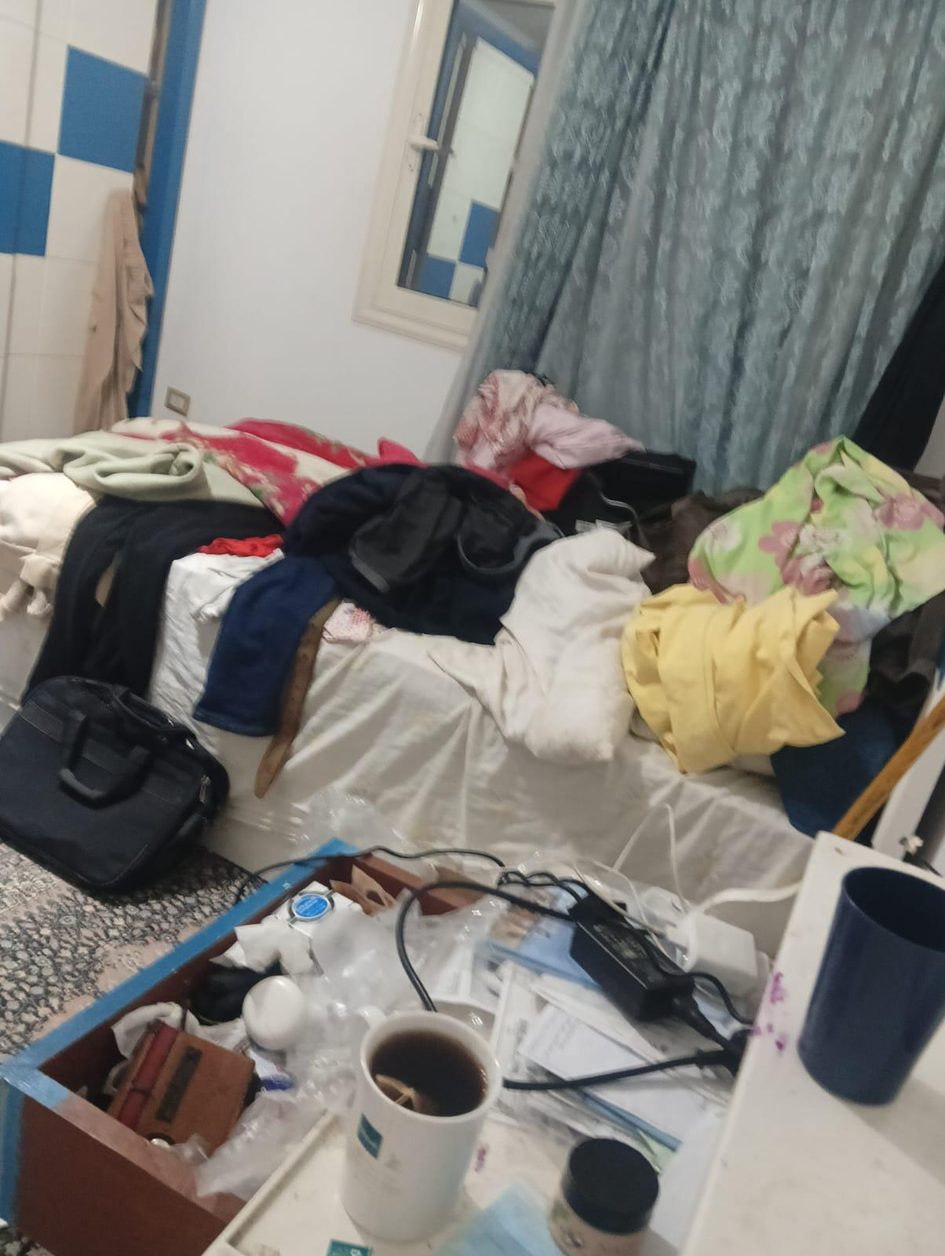cup: (341, 1011, 501, 1242), (798, 868, 944, 1105), (366, 1027, 489, 1121)
